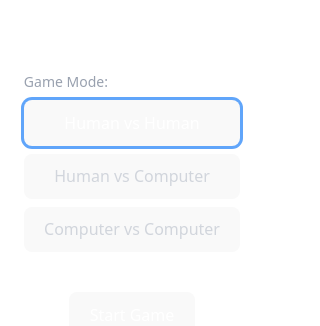
Test: App › setup screen › shows difficulty selector when CvC mode is selected
Click the button "Computer vs Computer" at x=132, y=229, box left=24, top=207, right=240, bottom=252
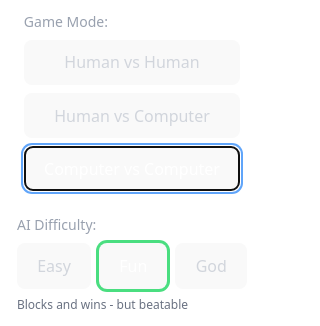
expect the text "AI Difficulty:" is shown: met, box left=17, top=215, right=96, bottom=234
